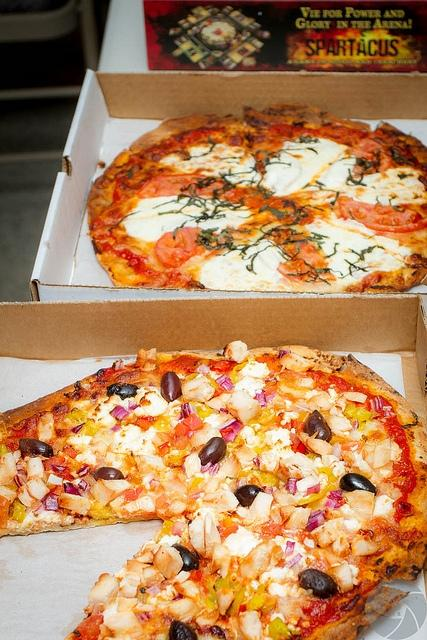onion: (212, 455, 237, 481), (219, 418, 243, 442), (296, 474, 320, 496), (214, 373, 237, 393), (177, 402, 198, 421), (41, 492, 60, 511), (108, 405, 130, 420), (306, 516, 326, 532), (282, 553, 302, 568), (369, 396, 385, 412), (172, 520, 187, 536), (64, 482, 81, 496), (324, 499, 344, 510), (146, 584, 161, 598), (286, 478, 298, 494), (200, 461, 214, 474), (77, 466, 92, 478), (256, 390, 267, 406), (327, 490, 343, 500), (286, 540, 296, 556), (278, 349, 292, 358), (52, 464, 66, 472), (78, 480, 88, 490), (352, 418, 359, 432), (16, 474, 24, 486), (110, 424, 122, 432), (128, 400, 137, 408), (141, 613, 150, 621), (334, 480, 340, 490)
tomato: (338, 195, 426, 232), (154, 227, 220, 269), (137, 172, 207, 198), (352, 138, 394, 174), (181, 414, 203, 430), (62, 445, 80, 459)
